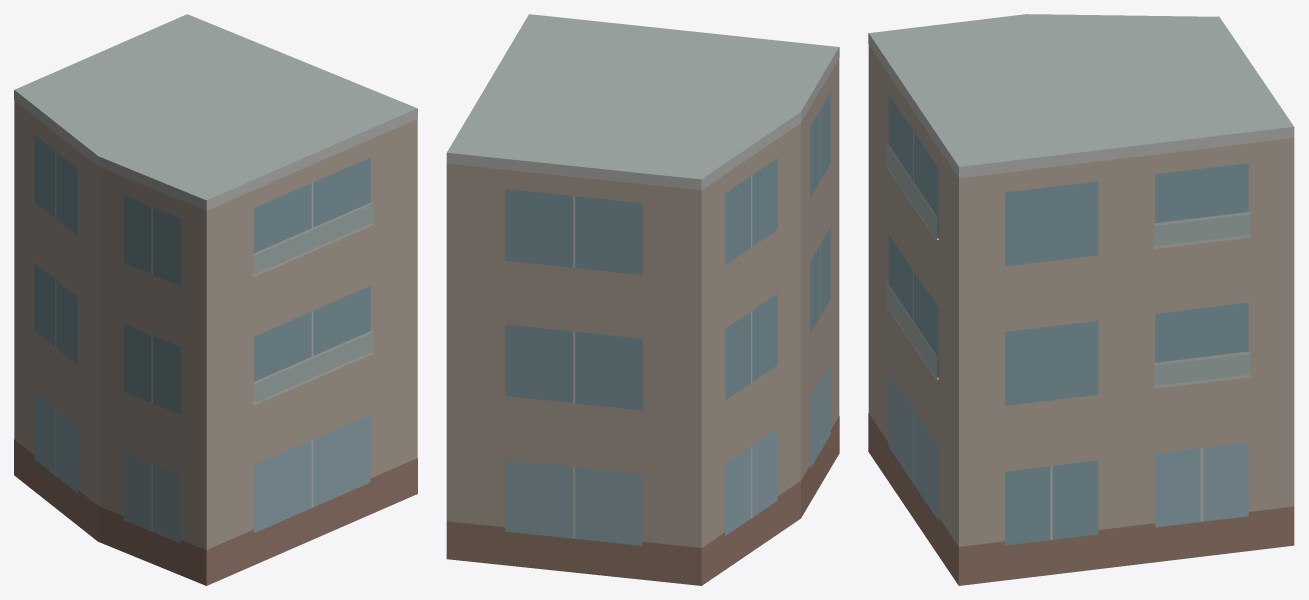
The model's file is survey-upis-32607775.glb.
3 renders of one model, left to right at view 1: azimuth 30°, elevation 25°; view 2: azimuth 150°, elevation 25°; view 3: azimuth 270°, elevation 25°, orthographic. The views are drawn at different scales.
Parts seen in each view (by area): view 1: survey-upis-32607775.tmp; view 2: survey-upis-32607775.tmp; view 3: survey-upis-32607775.tmp.
Part boxes in pixels (left/top/right/bottom): survey-upis-32607775.tmp: left=14, top=14, right=417, bottom=585; survey-upis-32607775.tmp: left=446, top=14, right=839, bottom=585; survey-upis-32607775.tmp: left=868, top=14, right=1294, bottom=585.
Size of the model in its own units: 7.14 by 9.1 by 8.39.
